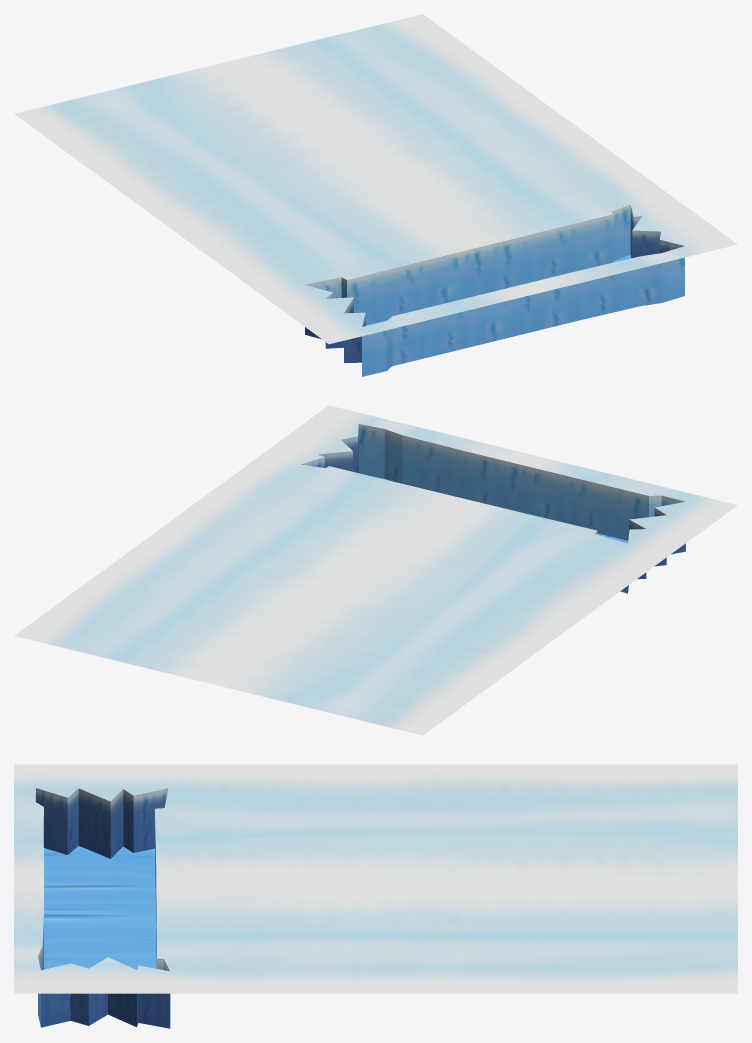
The model's file is Hole_L_Size_01.FBX.
The picture shows the model from 3 angles, top to bottom: view 1: azimuth 30°, elevation 25°; view 2: azimuth 150°, elevation 25°; view 3: azimuth 270°, elevation 25°; orthographic projection. The views are drawn at different scales.
Visible parts, largest first — view 1: Object121; view 2: Object121; view 3: Object121.
Boxes of the visible parts, x1=… form: Object121: x1=14, y1=14, x2=737, y2=376; Object121: x1=14, y1=405, x2=737, y2=735; Object121: x1=14, y1=764, x2=737, y2=1028.
Bounding box in the file's own units: 600 × 70 × 800.
